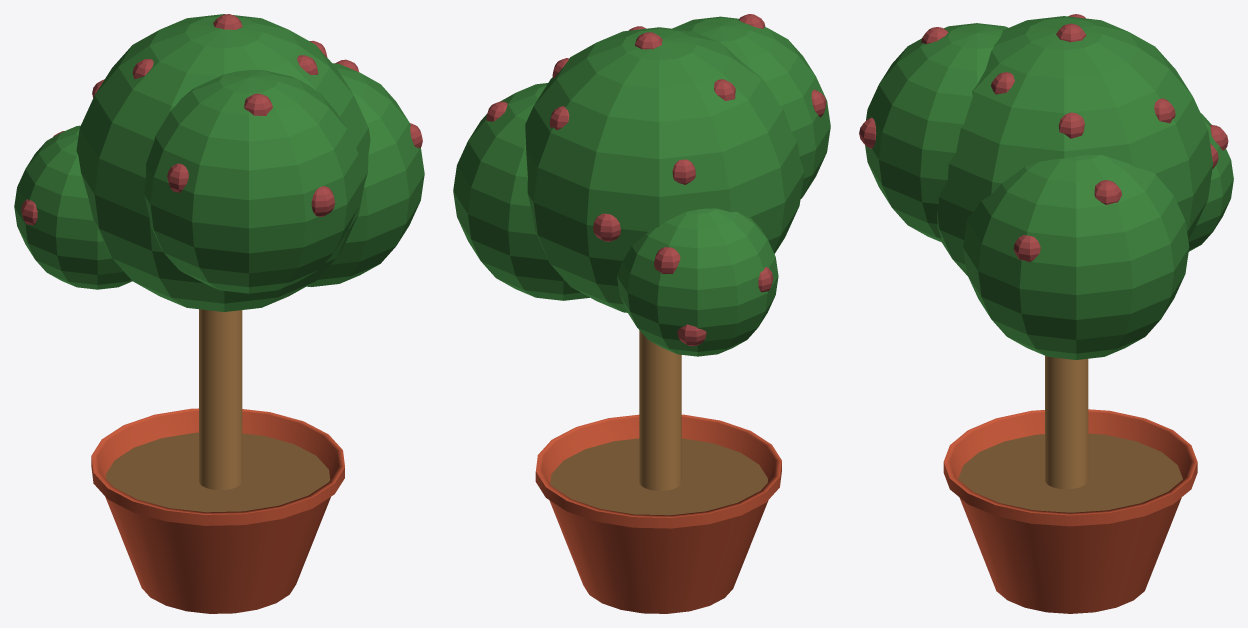
The model's file is Red Berry Bush.fbx.
3 views of the same model, side by side, from view 1: azimuth 30°, elevation 25°; view 2: azimuth 150°, elevation 25°; view 3: azimuth 270°, elevation 25° (orthographic). The views are drawn at different scales.
Visible parts, largest first — view 1: pCylinder4; view 2: pCylinder4; view 3: pCylinder4.
Boxes of the visible parts, x1,y1,x2,y2 form: pCylinder4: [14, 14, 424, 613]; pCylinder4: [453, 14, 830, 613]; pCylinder4: [859, 14, 1233, 613].
Bounding box in the file's own units: 7.42 × 11.4 × 6.91.
